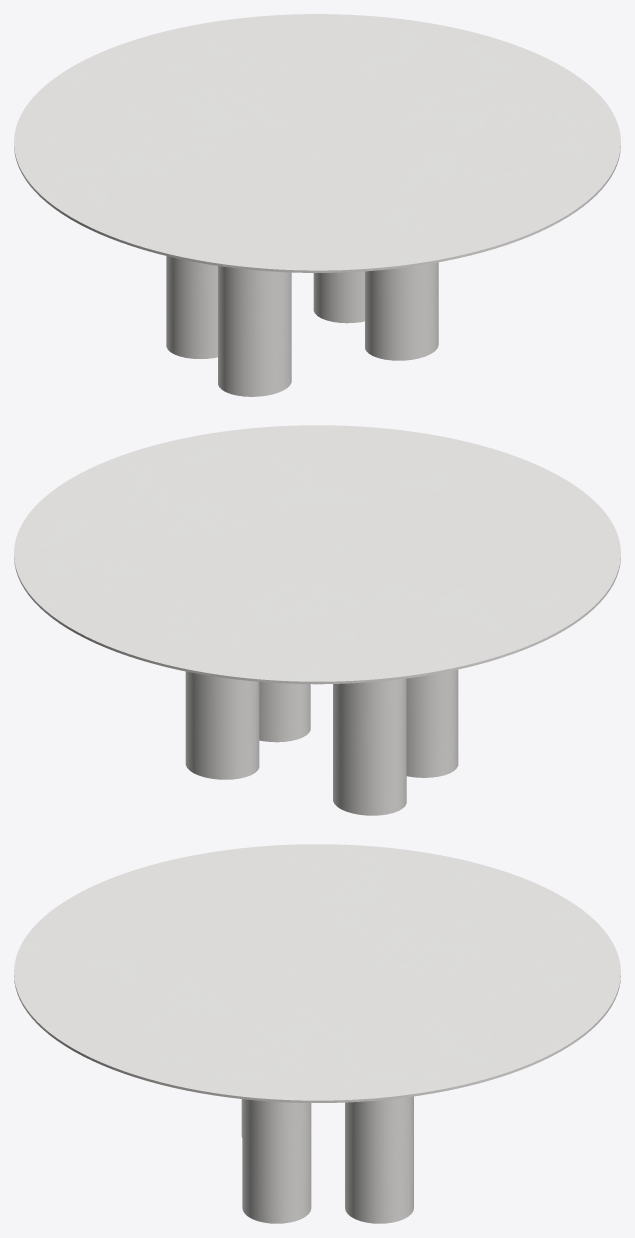
The model's file is purewhite_round_facet_grove.glb.
3 renders of one model, top to bottom at view 1: azimuth 30°, elevation 25°; view 2: azimuth 150°, elevation 25°; view 3: azimuth 270°, elevation 25°, orthographic.
Visible parts, largest first — view 1: facet_round, grove; view 2: facet_round, grove; view 3: facet_round, grove.
Boxes of the visible parts, x1,y1,x2,y2 form: facet_round: (14, 14, 620, 272); grove: (166, 256, 438, 396); facet_round: (14, 425, 620, 684); grove: (185, 669, 458, 815); facet_round: (14, 844, 620, 1102); grove: (241, 1096, 413, 1223).
Bounding box in the file's own units: 6.75 × 2.51 × 6.75.
Materials: 1 (1 with a texture image).
